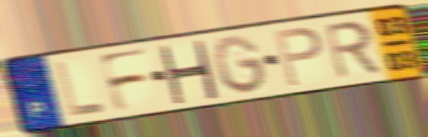F: (96, 46, 152, 115)
G: (211, 33, 271, 96)
H: (156, 39, 221, 105)
L: (53, 59, 109, 120)
P: (271, 25, 325, 89)
R: (321, 18, 384, 82)
